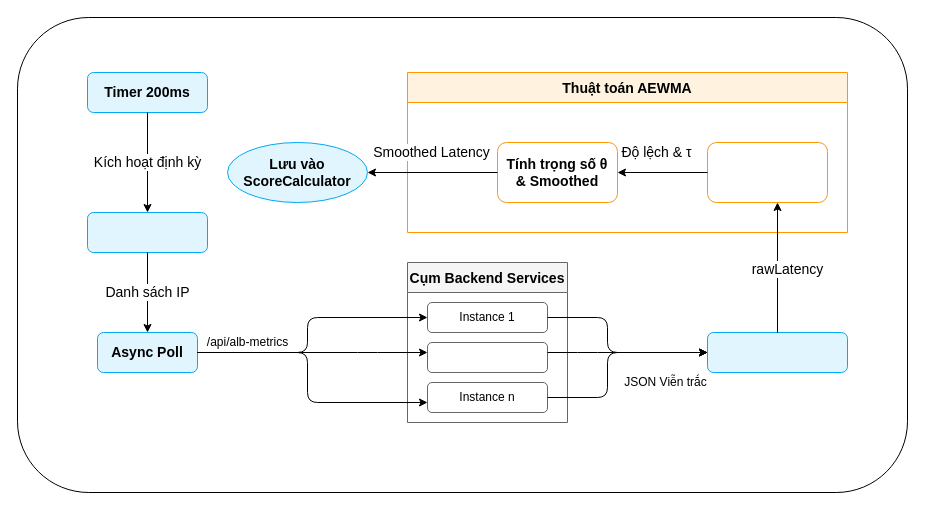
Image size: 925x510. Some labels were removed from this diagram. Here are the shapes that lost their labels. From the top down, the centre of each, then its label:
(767,172): Tính độ lệch & τ động
(147,232): Lấy Backend từ Eureka
(487,357): Instance 2
(777,352): Tính rawLatency
